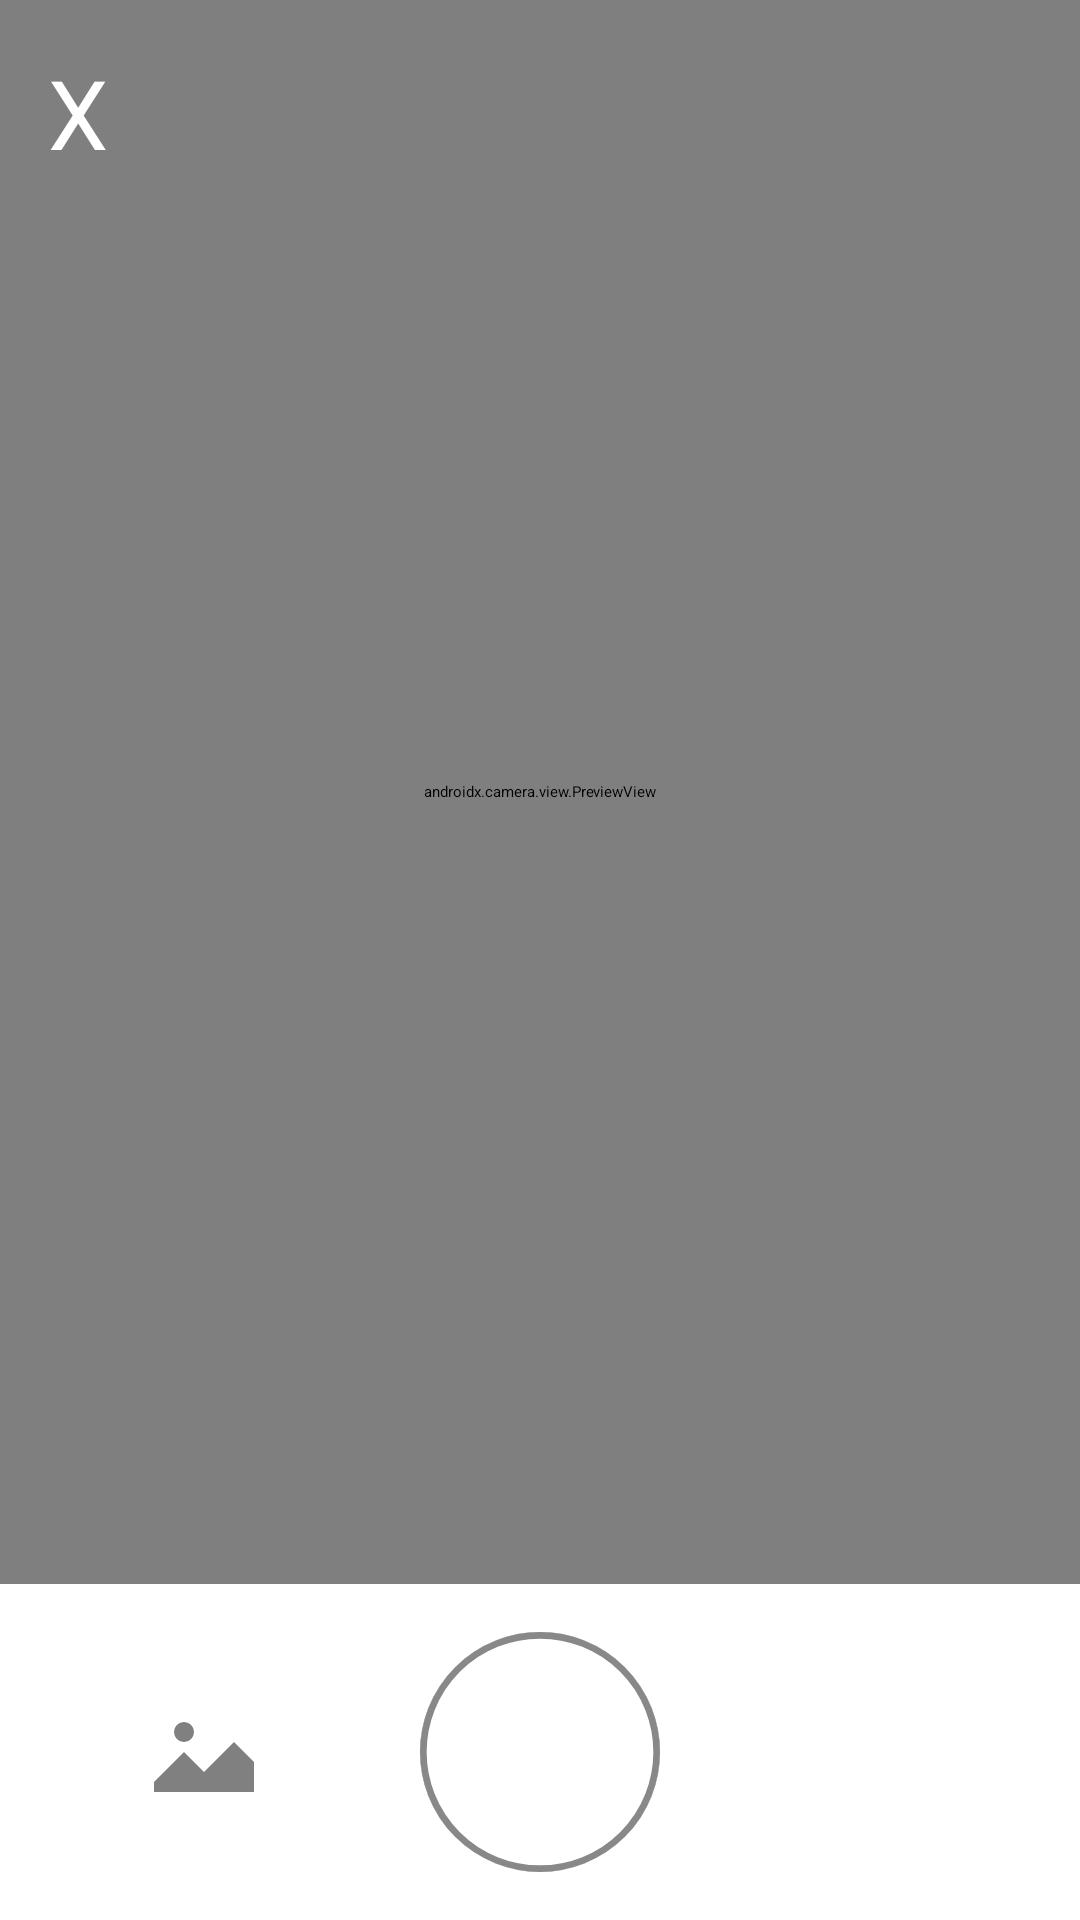

Screen size 1080px×1920px. Icon name, then its box in pixels as [x1=x1, y1=y1, x2=x2, y2=y2]:
Image Upload: [x1=154, y1=1722, x2=254, y2=1792]
